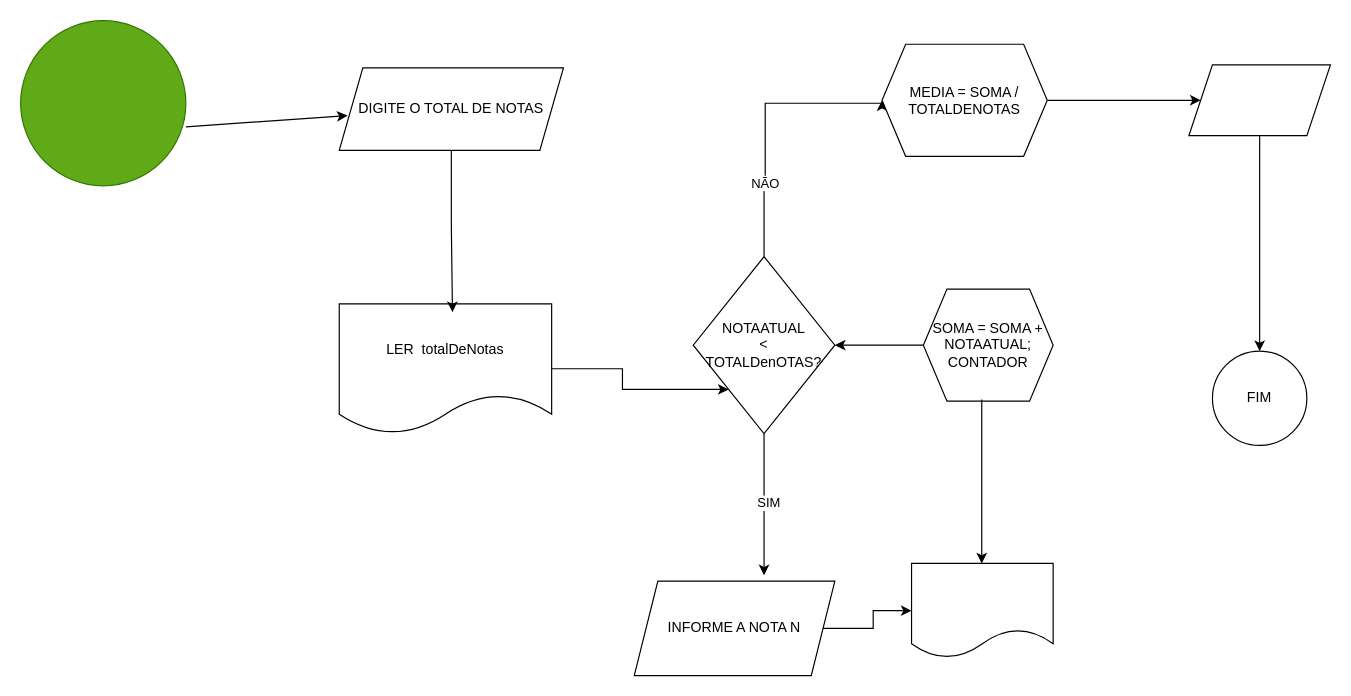
The diagram is 1351 pixels wide and 696 high, and some of its shapes have lost their labels. Here are the shapes that lost their labels. From the top down, the box of each, then its label:
(19, 19, 186, 186): INCIO
(1188, 64, 1330, 136): MEDIA
(910, 562, 1053, 658): ler notaAtual
